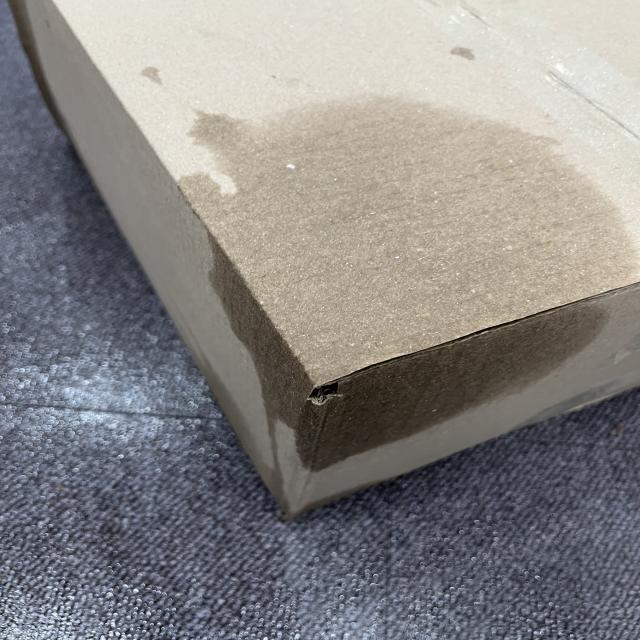wet: (194, 90, 638, 462)
